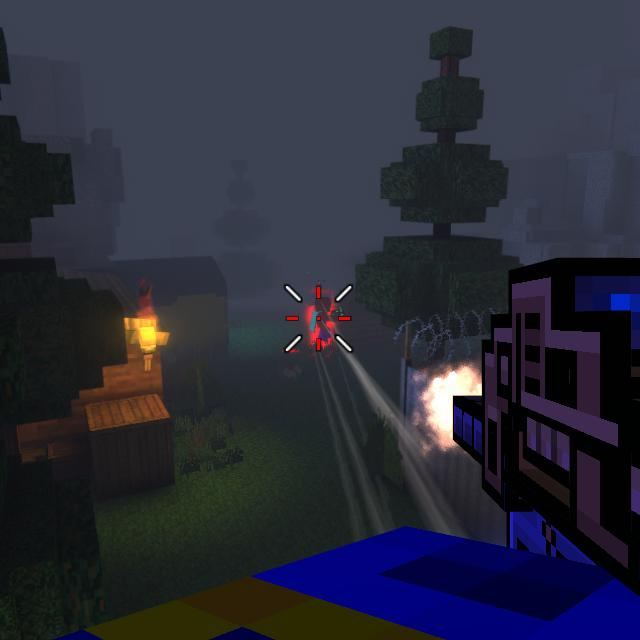Enemy: (314, 297, 338, 342)
